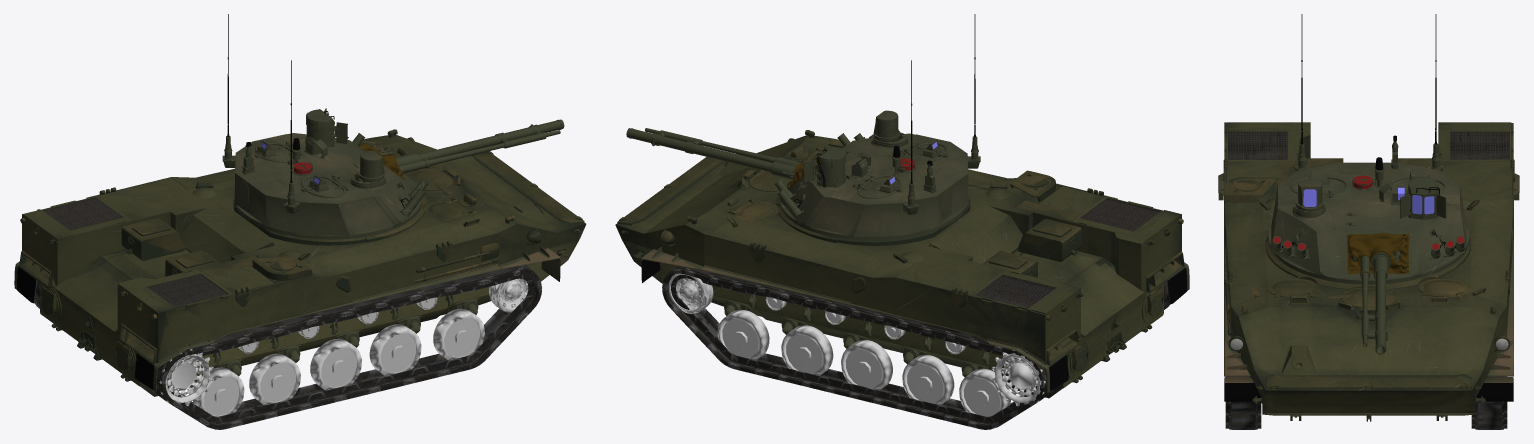
The model's file is bmd4.fbx.
The picture shows the model from 3 angles, left to right: view 1: azimuth 30°, elevation 25°; view 2: azimuth 150°, elevation 25°; view 3: azimuth 270°, elevation 25°; orthographic projection. The views are drawn at different scales.
Parts seen in each view (by area): view 1: chassis, details, tourelle_01, Chenille_Droite_01, sideskirts, bmEngineRadiator, tdetails, Roue_D4, Roue_D5, Roue_D3, Roue_D2, Roue_D7 (+7 smaller); view 2: chassis, tourelle_01, details, Chenille_Gauche_01, sideskirts, bmEngineRadiator, tdetails, Roue_G3, Roue_G4, Roue_G5, Roue_G2, Roue_G7 (+7 smaller); view 3: chassis, tourelle_01, details, tdetails, sideskirts, bmEngineRadiator, cxz, peris, Chenille_Droite_01, Chenille_Gauche_01, canon_01, canon_det (+1 smaller).
Boxes of the visible parts, x1,y1,x2,y2 form: chassis: (22, 135, 586, 396); details: (19, 129, 584, 381); tourelle_01: (233, 133, 422, 239); Chenille_Droite_01: (151, 265, 541, 429); sideskirts: (14, 245, 560, 391); bmEngineRadiator: (42, 197, 227, 308); tdetails: (222, 14, 428, 216); Roue_D4: (310, 338, 361, 390); Roue_D5: (249, 353, 300, 405); Roue_D3: (369, 324, 421, 375); Roue_D2: (433, 308, 484, 360); Roue_D7: (153, 349, 213, 406); chassis: (615, 135, 1181, 398); tourelle_01: (780, 110, 969, 240); details: (617, 130, 1184, 383); Chenille_Gauche_01: (662, 266, 1054, 429); sideskirts: (641, 246, 1189, 392); bmEngineRadiator: (975, 198, 1161, 309); tdetails: (774, 14, 980, 217); Roue_G3: (781, 325, 833, 375); Roue_G4: (841, 340, 892, 390); Roue_G5: (902, 355, 954, 405); Roue_G2: (717, 309, 769, 360); Roue_G7: (991, 350, 1052, 406); chassis: (1224, 122, 1513, 421); tourelle_01: (1268, 162, 1469, 284); details: (1223, 158, 1514, 403); tdetails: (1272, 14, 1465, 274); sideskirts: (1218, 173, 1519, 401); bmEngineRadiator: (1228, 132, 1509, 159); cxz: (1347, 232, 1409, 273); peris: (1400, 177, 1446, 219); Chenille_Droite_01: (1225, 376, 1261, 429); Chenille_Gauche_01: (1471, 376, 1507, 429); canon_01: (1375, 270, 1385, 354); canon_det: (1361, 252, 1390, 351).
Size of the model in its own units: 6.34 by 3.22 by 3.99.
